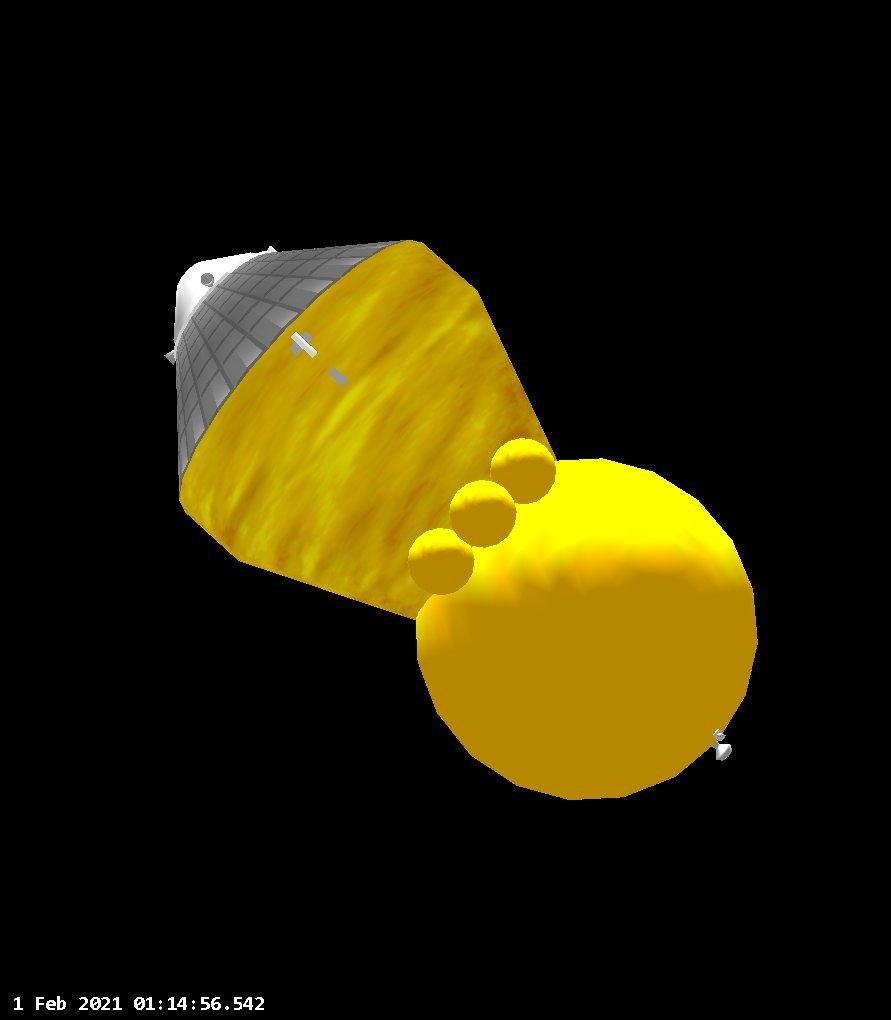antenna: (707, 728, 738, 764)
body: (169, 234, 765, 804)
thruster: (287, 324, 322, 362), (197, 269, 220, 290), (163, 343, 178, 366), (262, 242, 283, 255)
